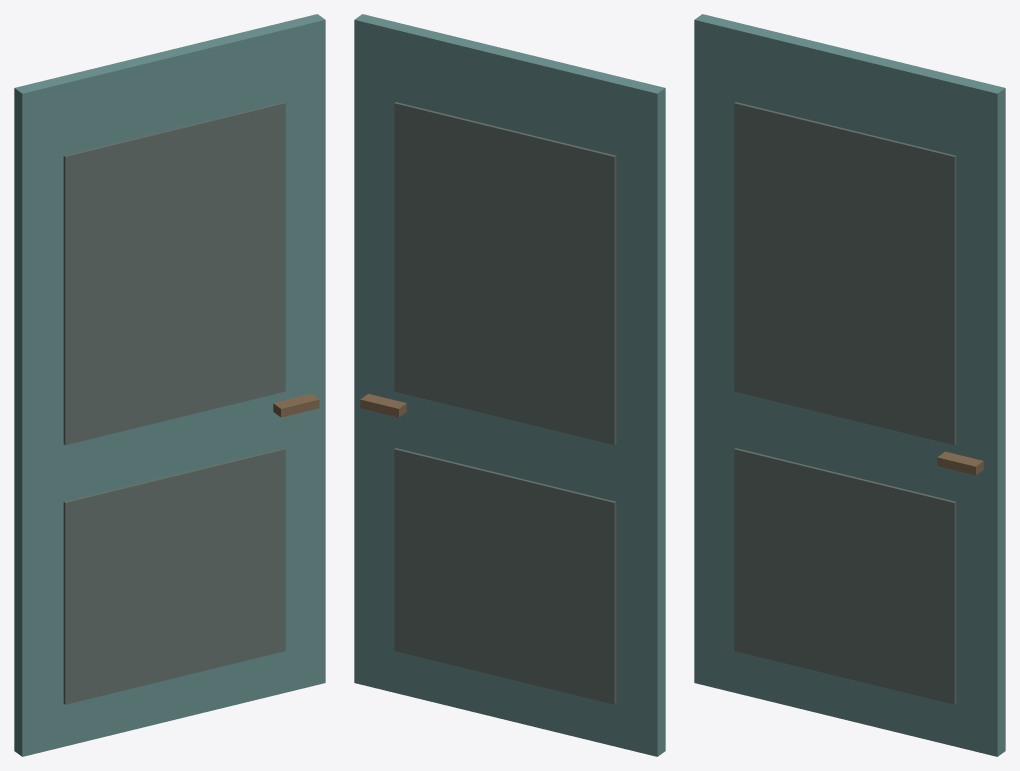
Rendered from usa_birou_primar.glb.
3 renders of one model, left to right at view 1: azimuth 30°, elevation 25°; view 2: azimuth 150°, elevation 25°; view 3: azimuth 330°, elevation 25°, orthographic.
Visible parts, largest first — view 1: Usa; view 2: Usa; view 3: Usa.
Boxes of the visible parts, bbox=[...] form: Usa: bbox=[14, 14, 325, 756]; Usa: bbox=[354, 14, 665, 756]; Usa: bbox=[694, 14, 1005, 756].
Bounding box in the file's own units: 1.1 × 2.3 × 0.15.
